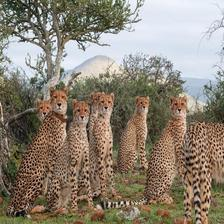Cheetah: (98, 93, 189, 212), (6, 85, 71, 218), (33, 99, 90, 216), (182, 119, 224, 222), (37, 96, 73, 210), (87, 91, 117, 202), (82, 90, 107, 204), (118, 95, 153, 174)
